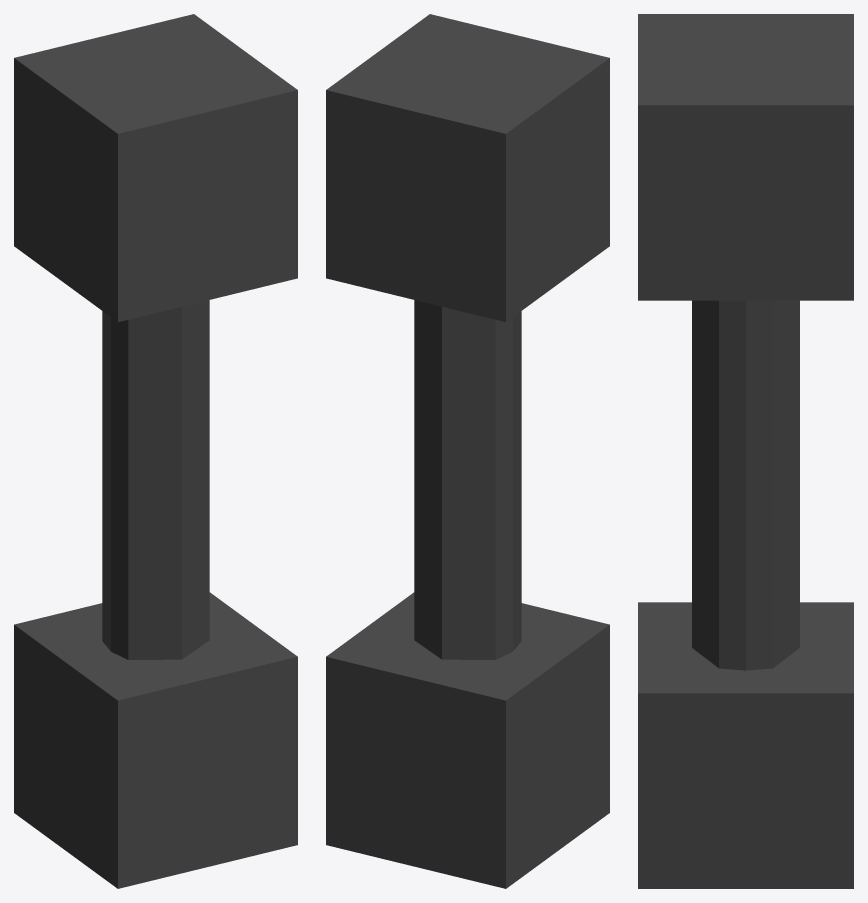
Rendered from pipe.fbx.
The picture shows the model from 3 angles, left to right: view 1: azimuth 30°, elevation 25°; view 2: azimuth 150°, elevation 25°; view 3: azimuth 270°, elevation 25°; orthographic projection. The views are drawn at different scales.
Visible parts, largest first — view 1: Cube; view 2: Cube; view 3: Cube.
Boxes of the visible parts, x1,y1,x2,y2 form: Cube: (14, 14, 297, 888); Cube: (326, 14, 609, 888); Cube: (638, 14, 853, 888).
Bounding box in the file's own units: 200 × 802 × 200.
